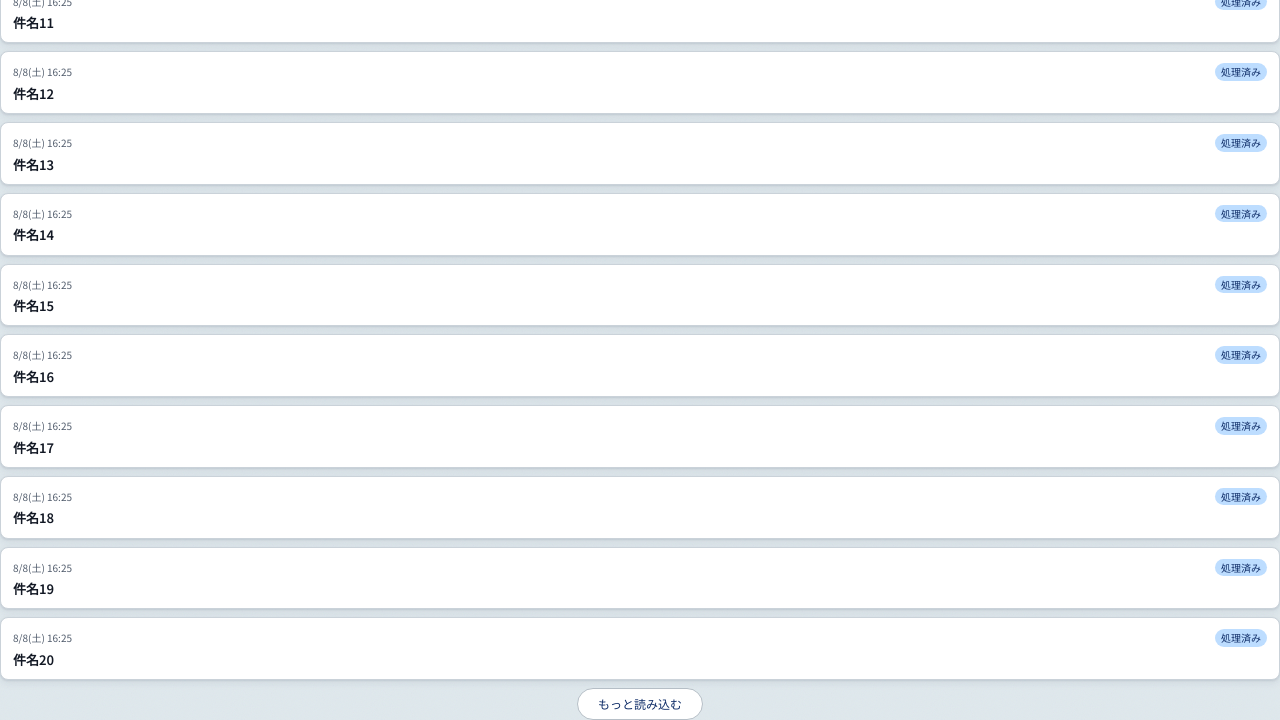
Scenario: MailList — もっと読み込む（AC-8） › 初回20件＋追加20件で重複・欠落なし
(page scrolled)
Click the button "もっと読み込む". click: (640, 704)
box: [577, 688, 703, 719]
(page scrolled)
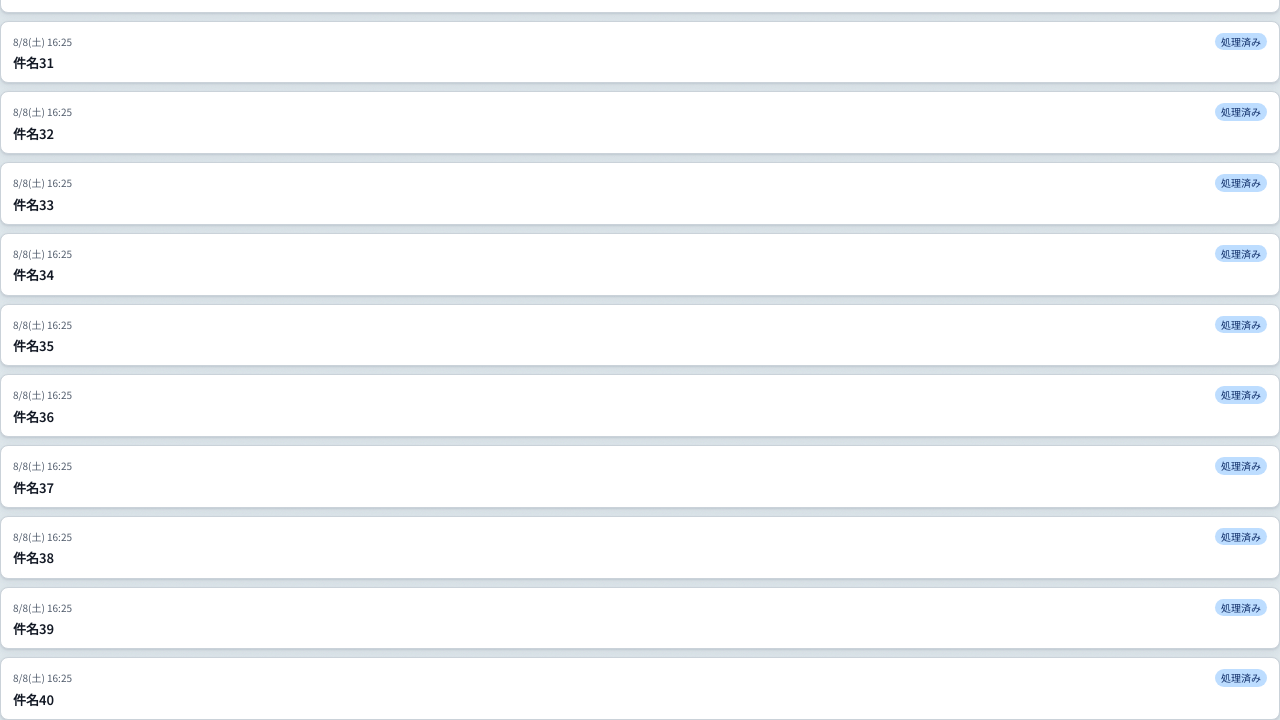
Result: the text "件名40" is shown once at [13, 690, 54, 709]
Result: the button "もっと読み込む" is gone
